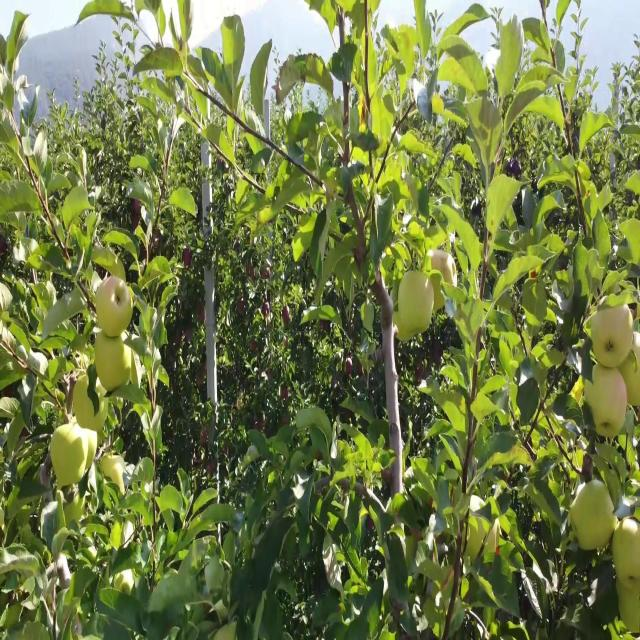apple: (568, 469, 617, 553), (588, 364, 628, 441), (52, 419, 96, 489), (592, 298, 634, 370), (96, 334, 135, 395), (400, 270, 434, 338), (96, 277, 135, 336), (76, 376, 108, 441), (612, 519, 640, 588), (616, 575, 640, 638), (620, 348, 640, 411), (64, 490, 86, 526), (100, 455, 124, 485), (444, 398, 468, 428), (396, 177, 414, 215), (396, 312, 415, 343), (440, 56, 459, 85), (612, 618, 635, 639), (432, 284, 448, 313), (132, 199, 144, 231), (408, 220, 424, 242), (432, 92, 444, 116), (196, 369, 207, 391), (260, 206, 271, 228), (184, 248, 192, 270), (200, 305, 208, 325), (252, 341, 257, 354), (224, 355, 229, 368)
